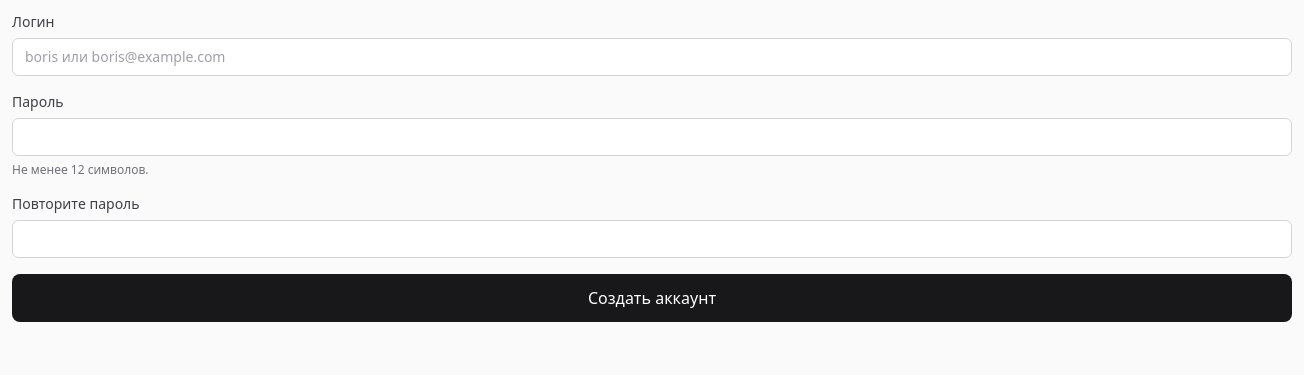
operator setup › shows a rejected setup without establishing a session
Type "boris" into the field labelled "Логин" at [652, 57], box x1=12 y1=38 x2=1292 y2=76
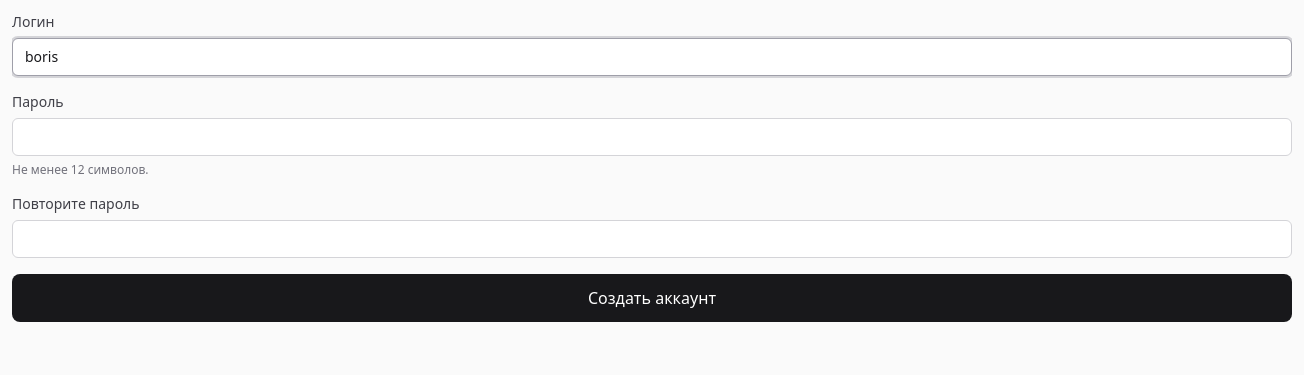
Type "my chosen password" into the password field labelled "Пароль" at [652, 137], box x1=12 y1=118 x2=1292 y2=156
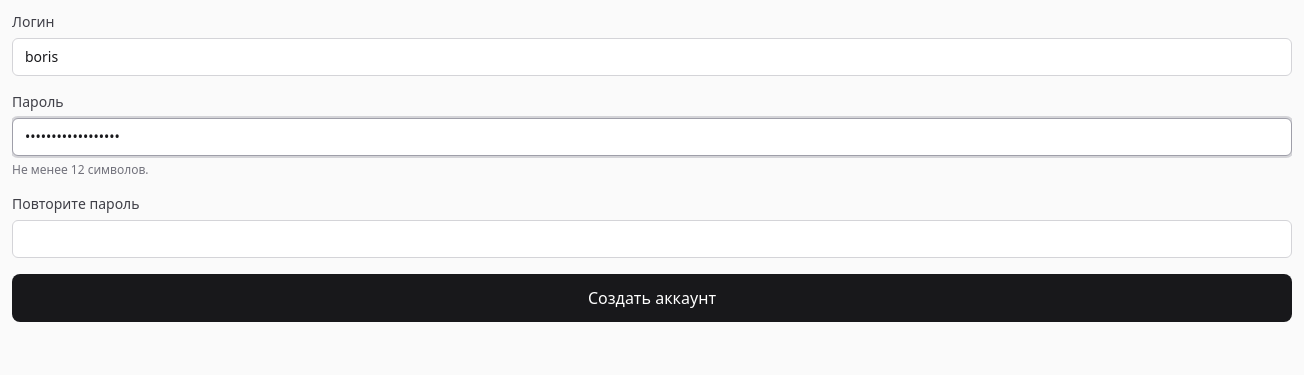
Type "my chosen password" into the password field labelled "Повторите пароль" at [652, 239], box x1=12 y1=220 x2=1292 y2=258
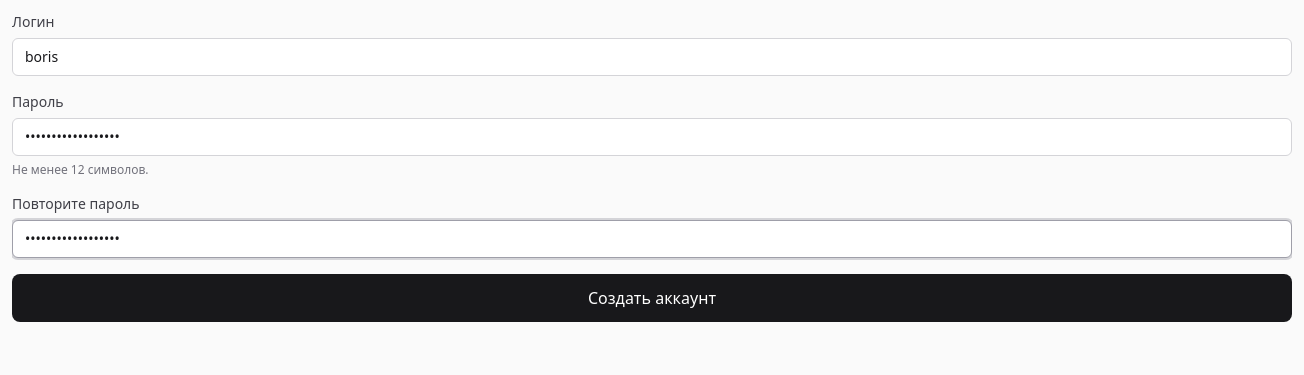
Click the button "Создать аккаунт" at [652, 298], box x1=12 y1=274 x2=1292 y2=322
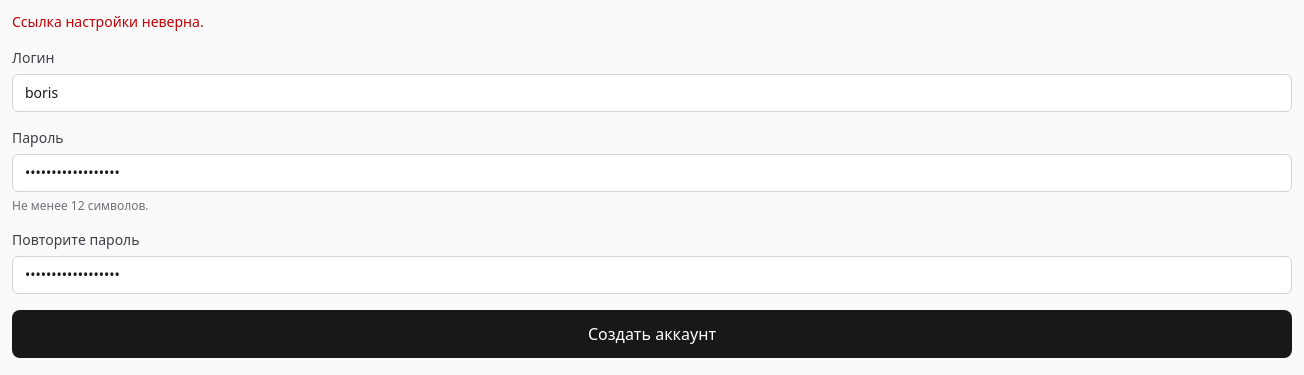
Check: the message reads "Ссылка настройки неверна.", box x1=12 y1=12 x2=204 y2=31
